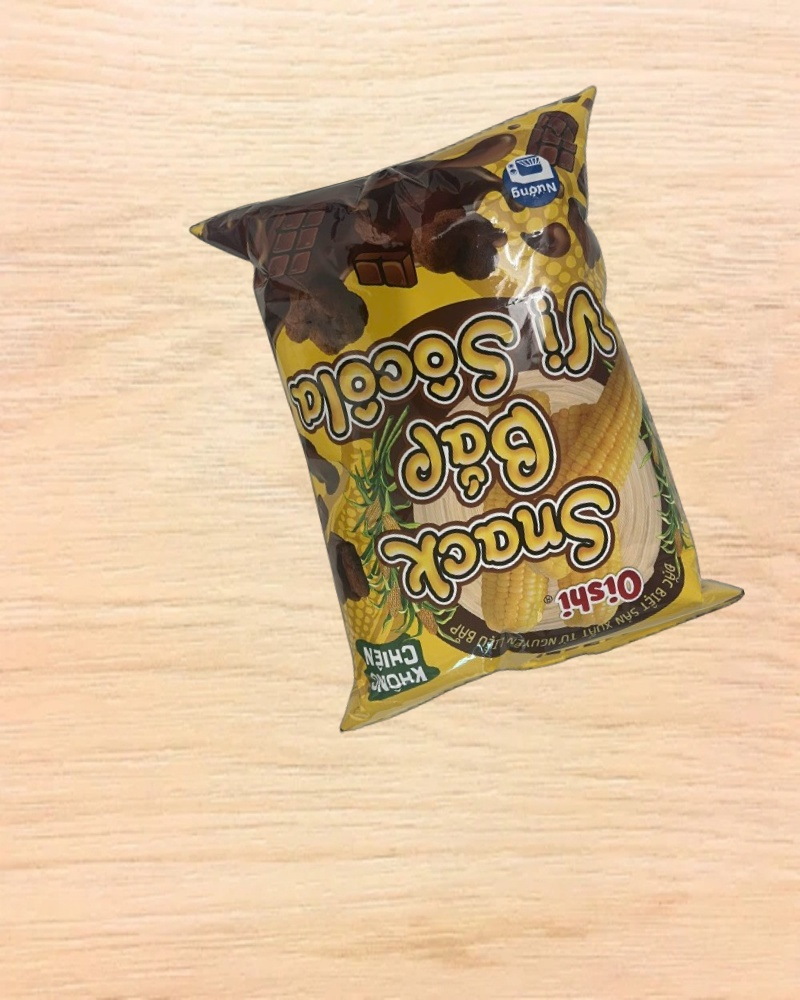Snack socola: (183, 85, 752, 736)
